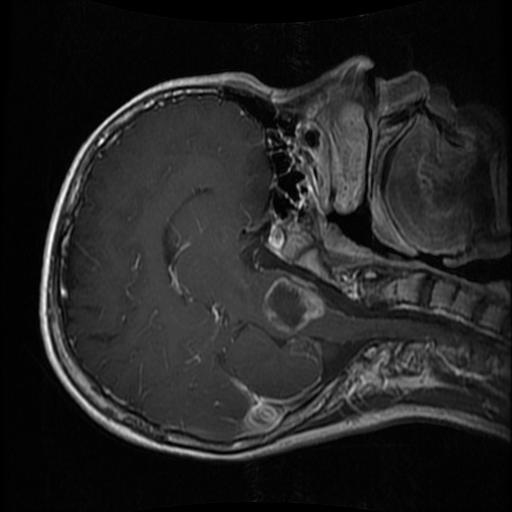glioma: (264, 278, 326, 334)
